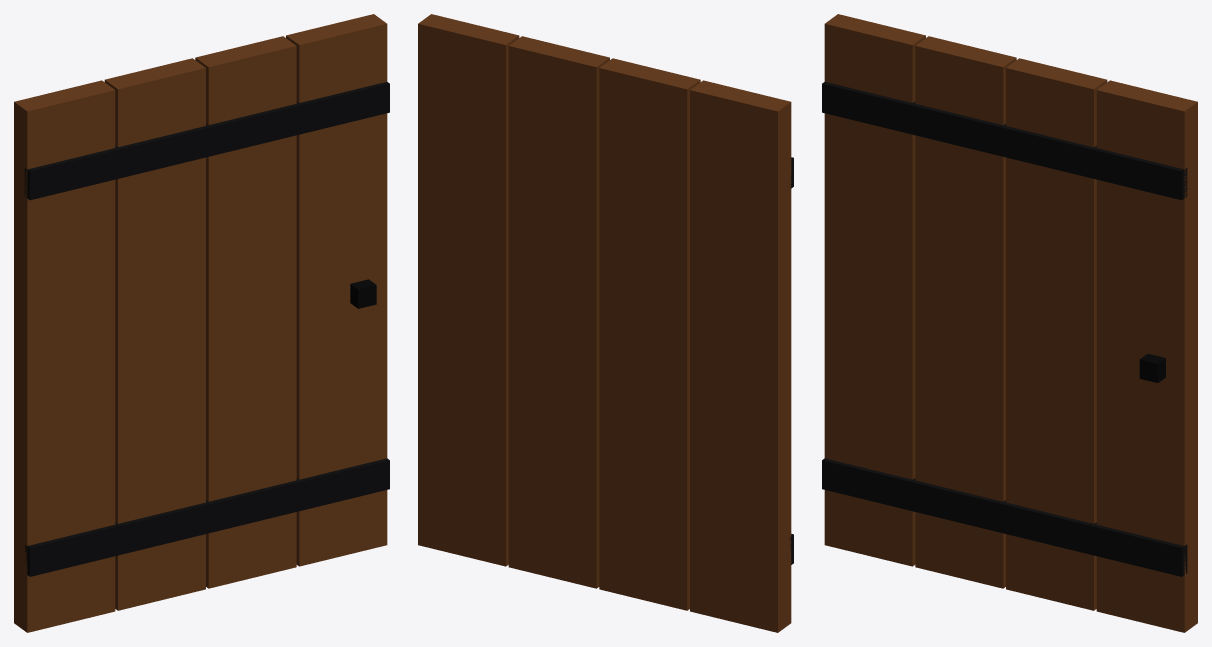
Rendered from PuertaCentralFuera.obj.
3 renders of one model, left to right at view 1: azimuth 30°, elevation 25°; view 2: azimuth 150°, elevation 25°; view 3: azimuth 330°, elevation 25°, orthographic.
Parts seen in each view (by area): view 1: Puerta_Principal; view 2: Puerta_Principal; view 3: Puerta_Principal.
Boxes of the visible parts, x1,y1,x2,y2 form: Puerta_Principal: (14,14,389,632); Puerta_Principal: (418,14,793,632); Puerta_Principal: (822,14,1197,632).
Bounding box in the file's own units: 1.56 × 2.16 × 0.16.
